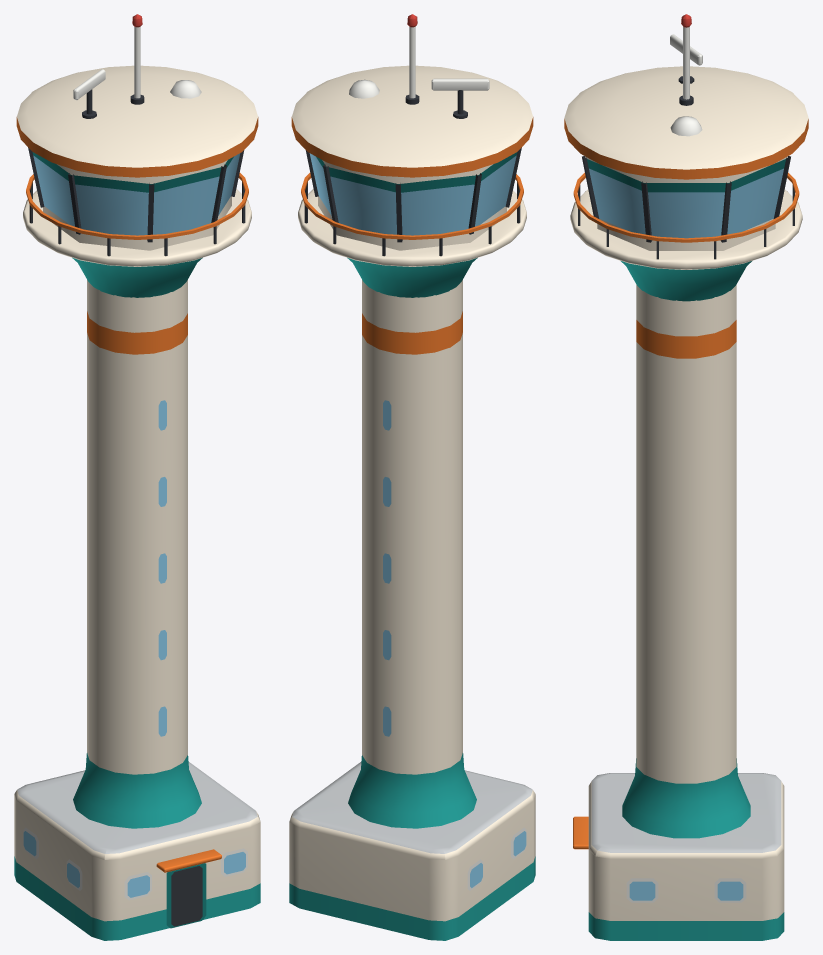
The model's file is TorreControl.fbx.
3 renders of one model, left to right at view 1: azimuth 30°, elevation 25°; view 2: azimuth 150°, elevation 25°; view 3: azimuth 270°, elevation 25°, orthographic.
Parts seen in each view (by area): view 1: TorreControl; view 2: TorreControl; view 3: TorreControl.
Part boxes in pixels (bbox=[...]): TorreControl: bbox=[14, 14, 260, 940]; TorreControl: bbox=[289, 14, 535, 940]; TorreControl: bbox=[564, 14, 808, 940].
Size of the model in its own units: 10 by 40 by 10.
Materials: 1 (1 with a texture image).
